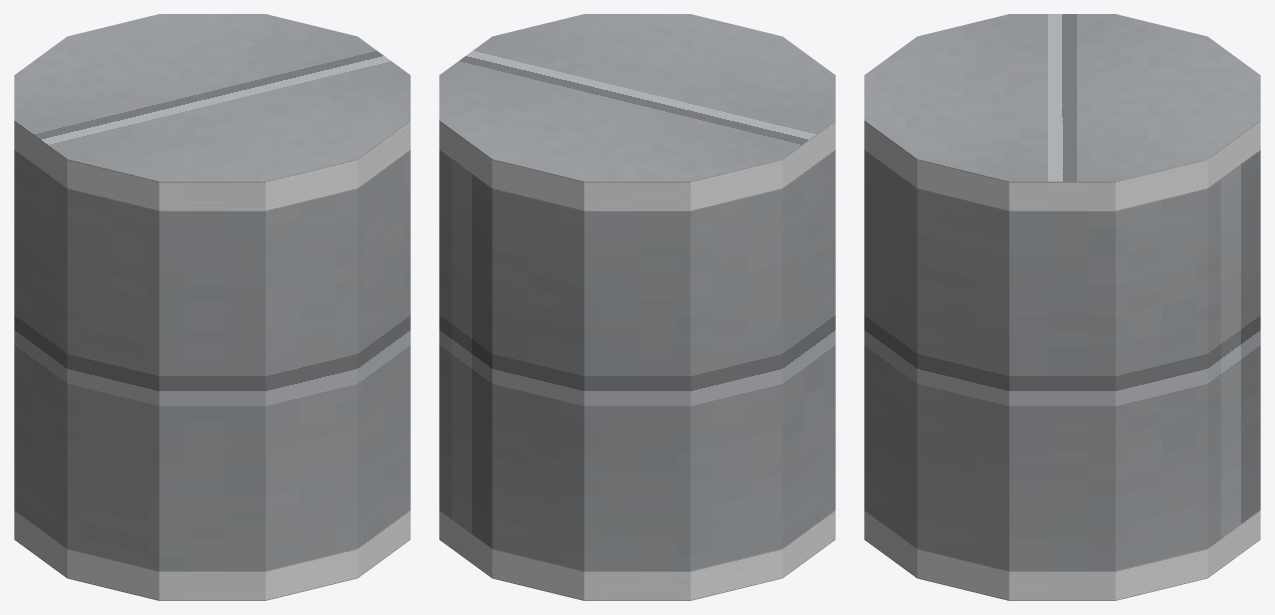
The model's file is connection_0.obj.
The picture shows the model from 3 angles, left to right: view 1: azimuth 30°, elevation 25°; view 2: azimuth 150°, elevation 25°; view 3: azimuth 270°, elevation 25°; orthographic projection.
Size of the model in its own units: 0.75 by 0.875 by 0.75.
